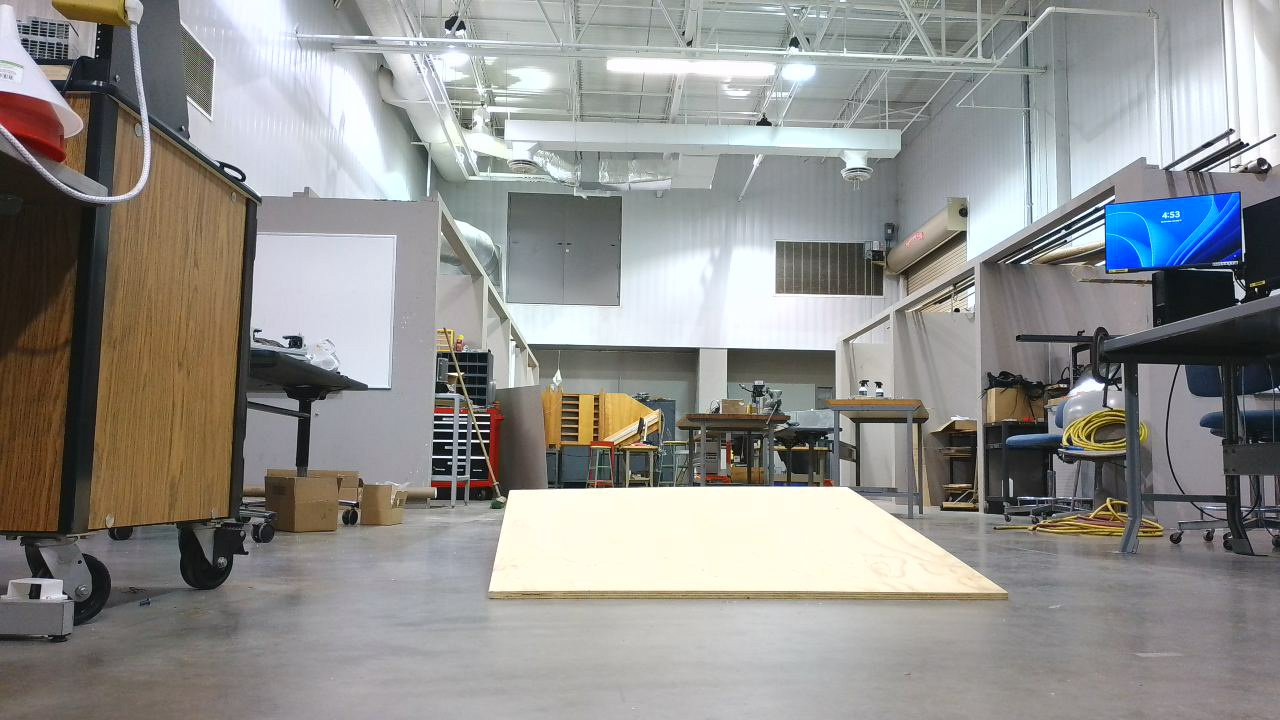ramp: (489, 486, 1019, 610)
